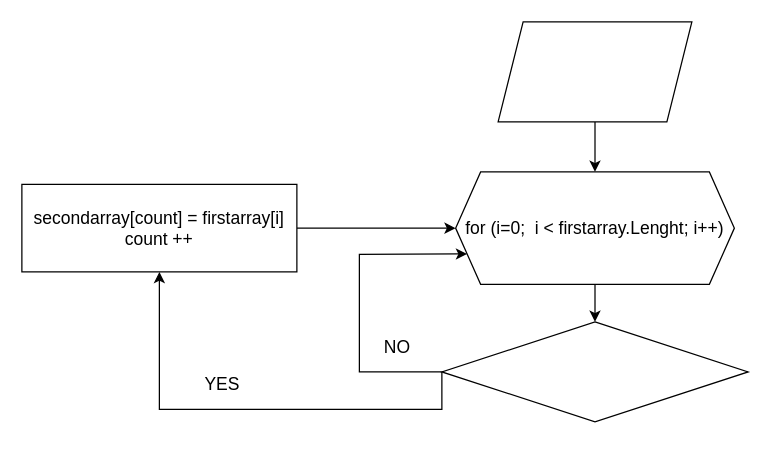
The diagram is 770 pixels wide and 454 high, and some of its shapes have lost their labels. The box of each missing label's shape, as (x1, y1, x2, y2) in pixels:
firstarray secondarray count = 0: (497, 21, 692, 122)
if (firstarray[i].Lenght <= 3: (441, 321, 748, 422)
